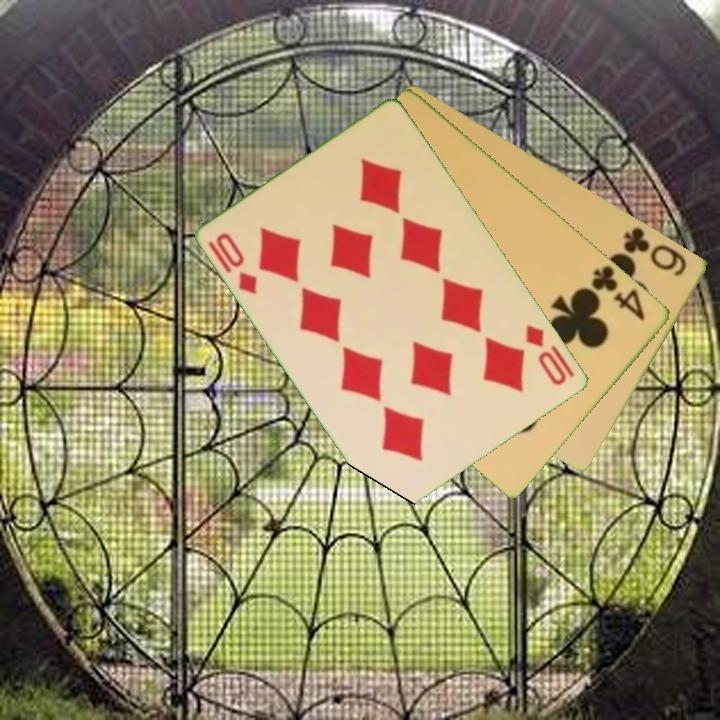10d: (522, 321, 571, 389), (213, 229, 261, 298)
4c: (588, 262, 649, 324)
6c: (620, 223, 691, 280)
